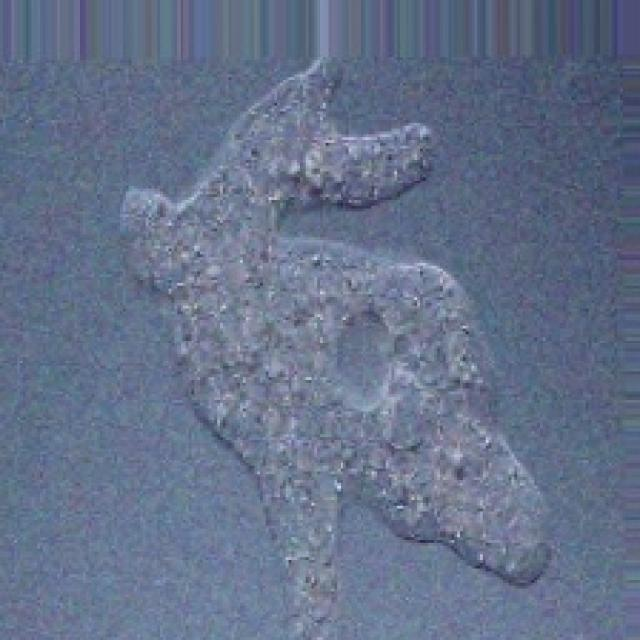Amoeba: (115, 54, 554, 637)
